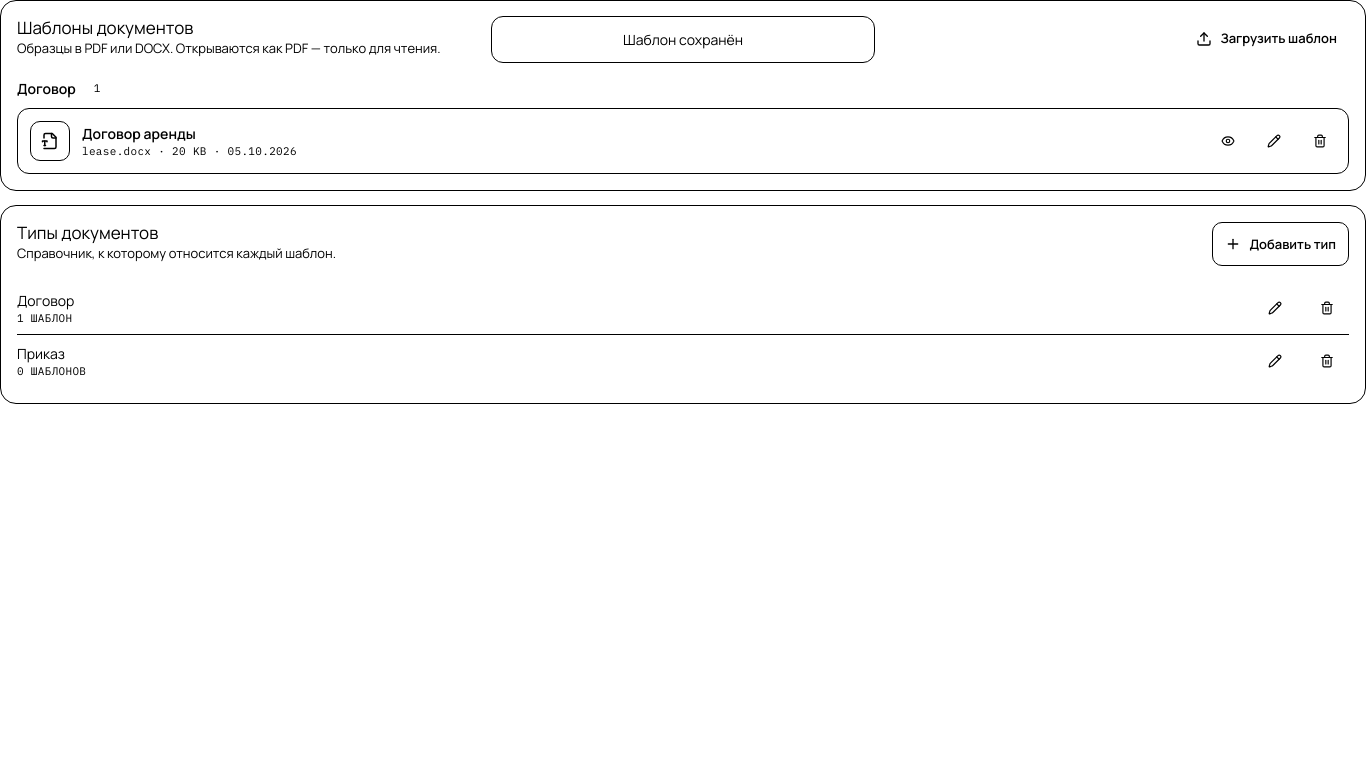
TemplatesTab › сообщает, что тип с шаблонами удалить нельзя
Click the button named "Удалить: Договор": (1327, 308) [1305,286,1349,330]
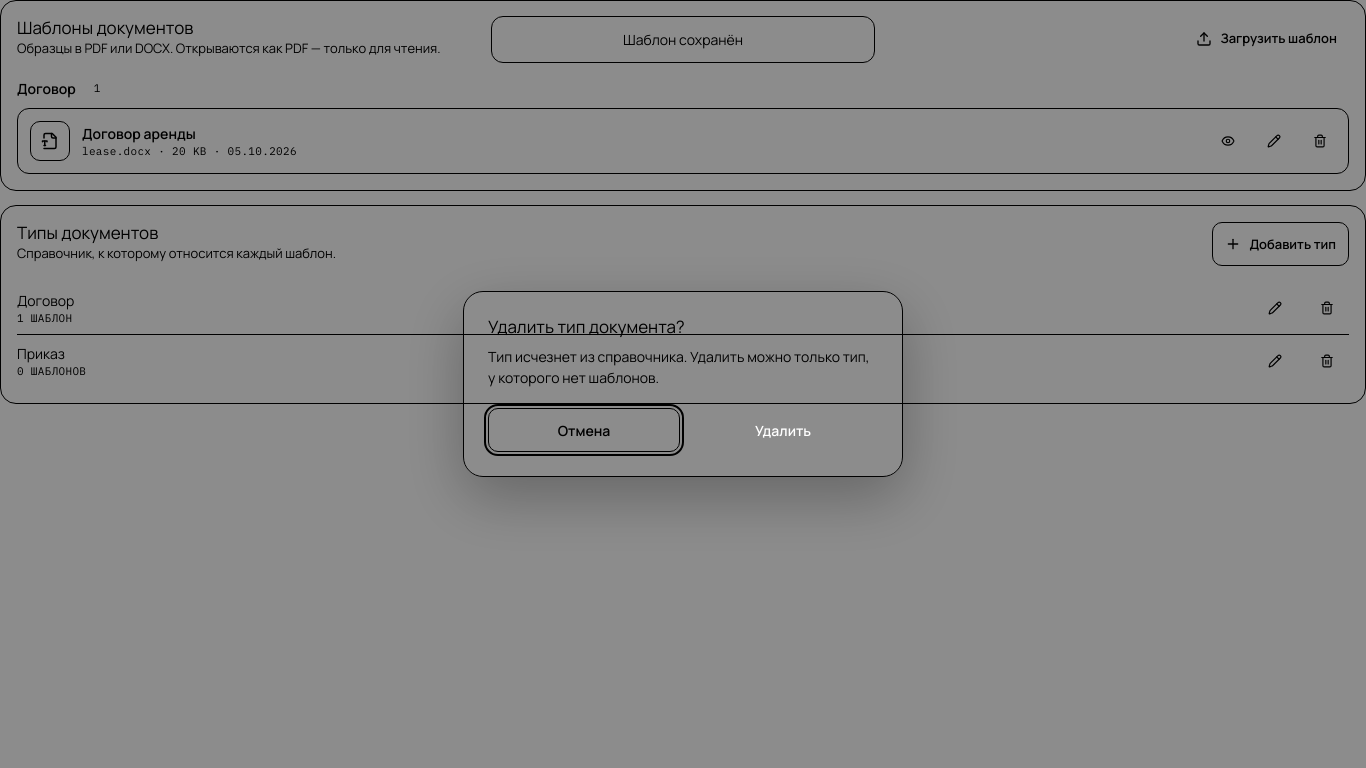
Click the button "Удалить": (783, 430) [688,408,878,452]
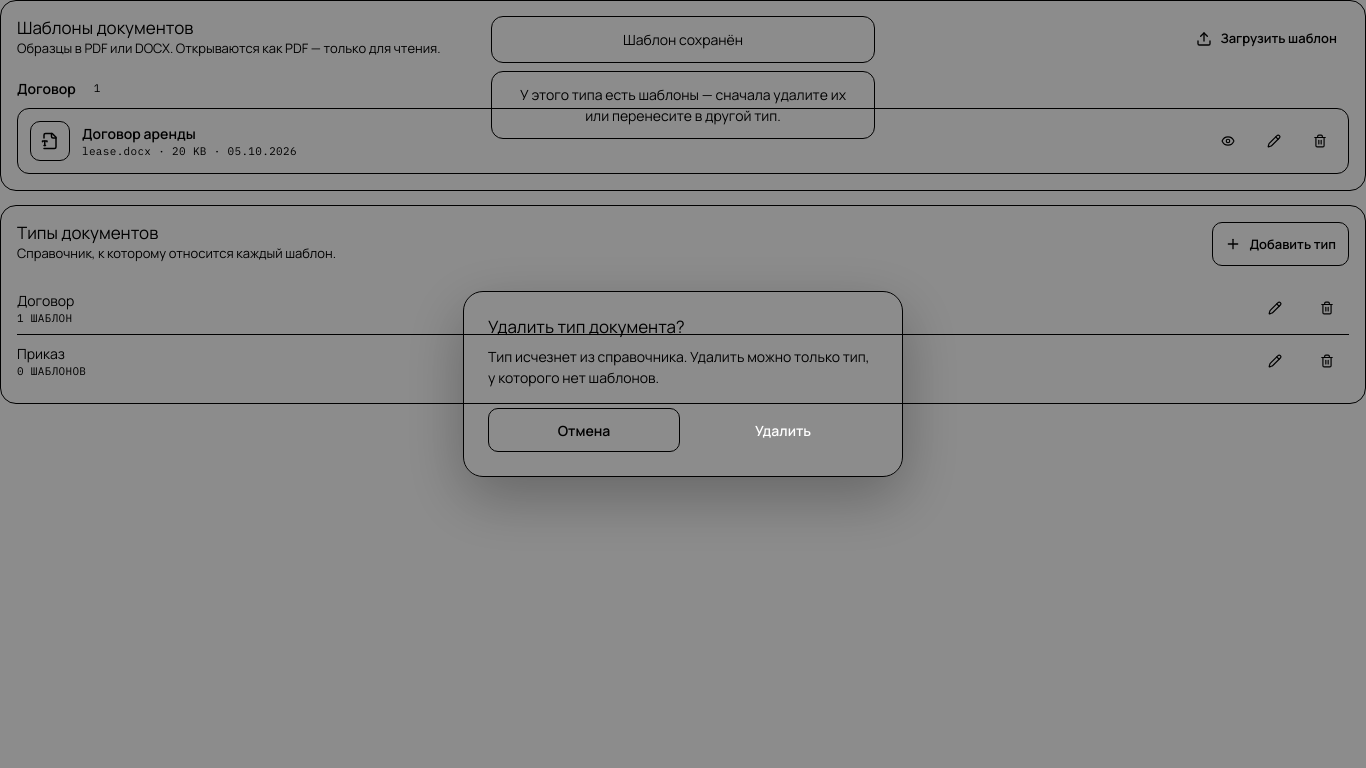
Result: the text "У этого типа есть шаблоны — сначала удалите их или перенесите в другой тип." is shown at [491,71,875,139]
